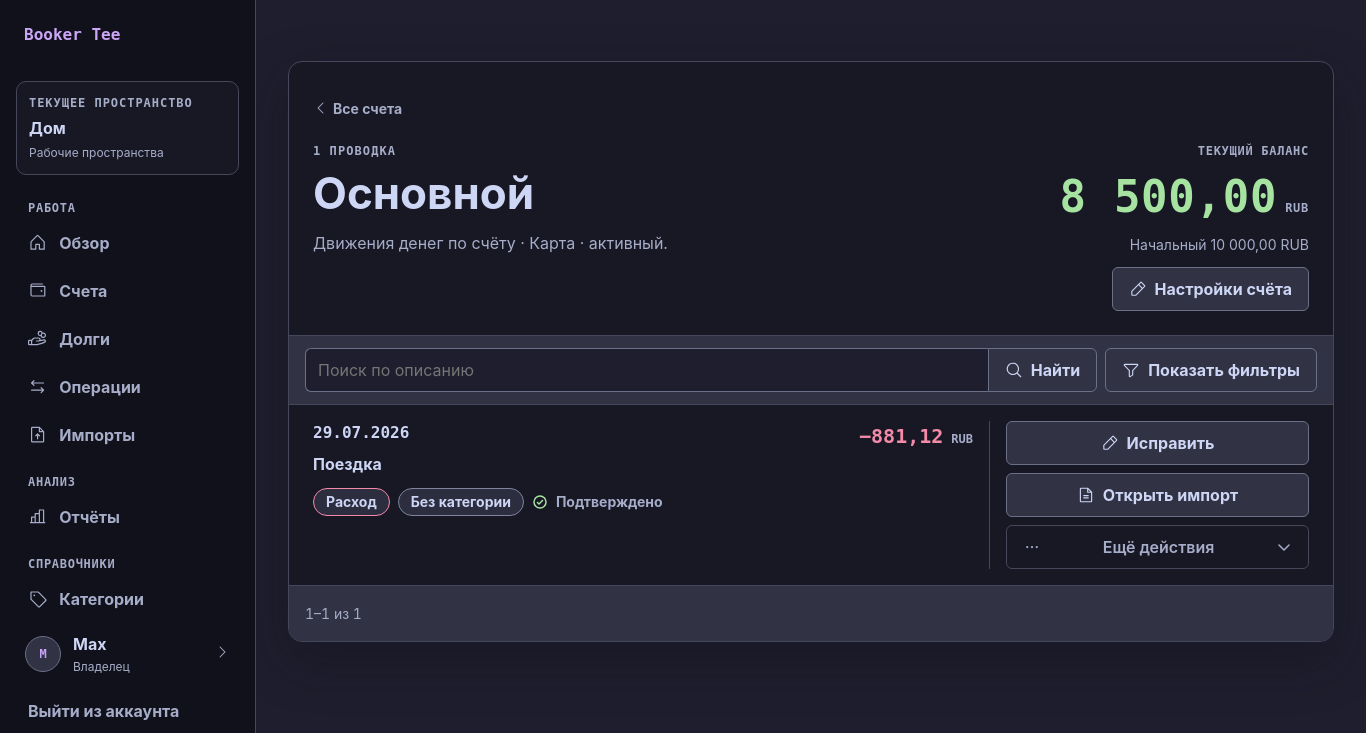
Test case: AccountDetailPage › keeps the correction draft when the operation changed elsewhere
Click the button "Исправить" at (1158, 443), box left=1006, top=421, right=1309, bottom=465
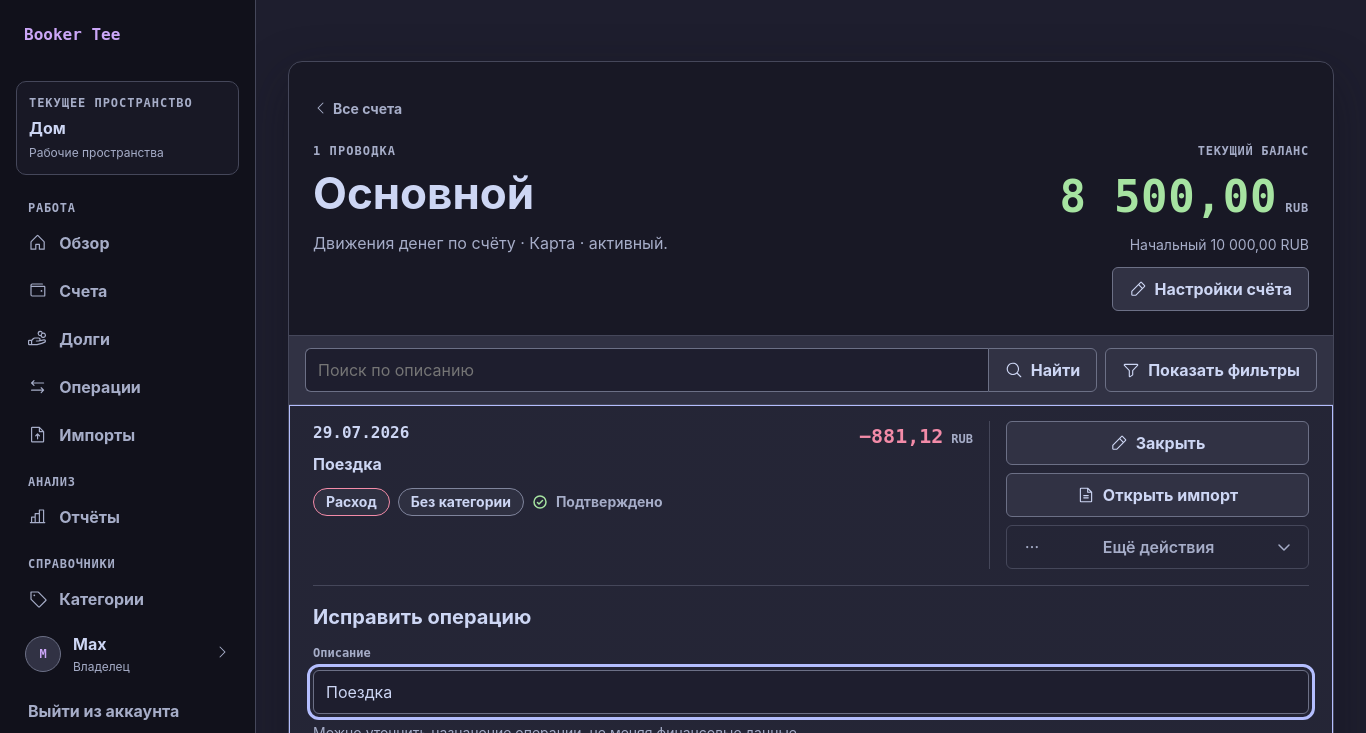
Replace the text in the field labelled "Описание" with "Мой черновик" at (811, 692), box left=313, top=670, right=1309, bottom=714
(page scrolled)
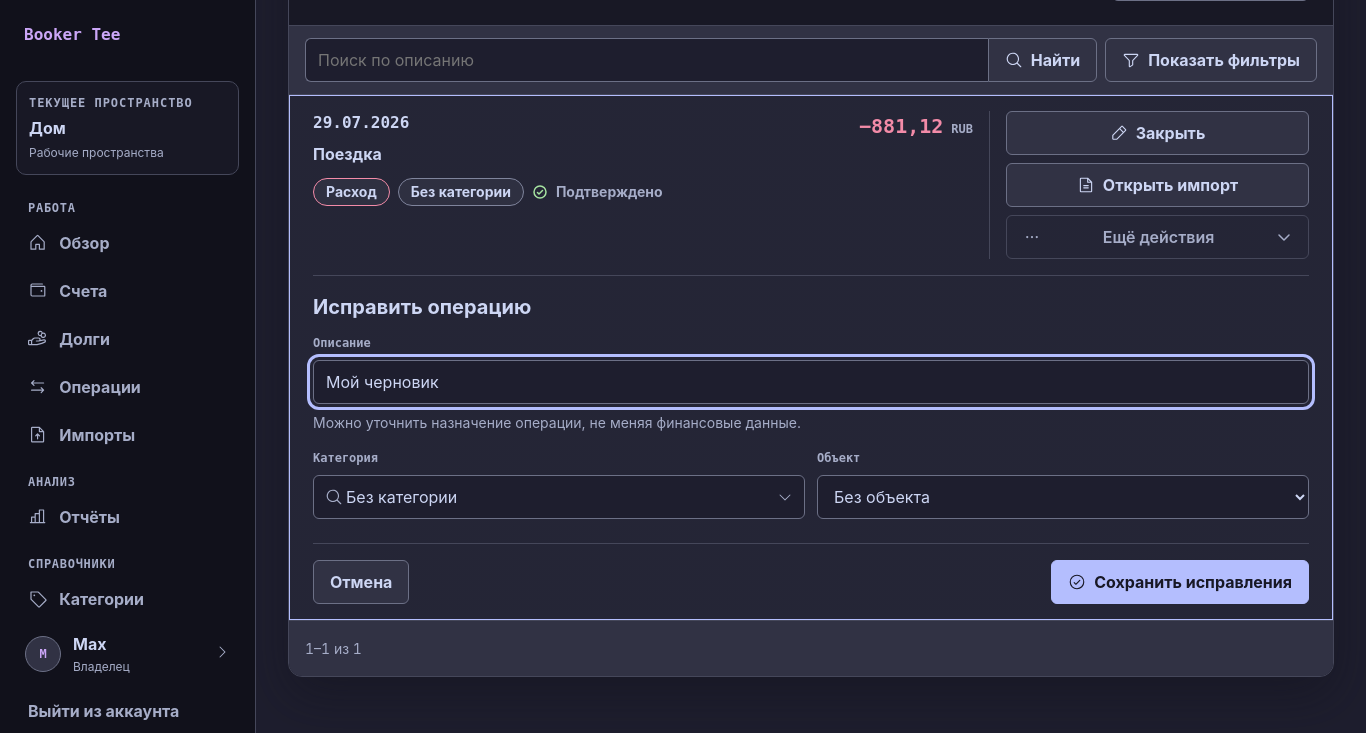
Click the button "Сохранить исправления" at (1180, 582), box left=1051, top=560, right=1309, bottom=604
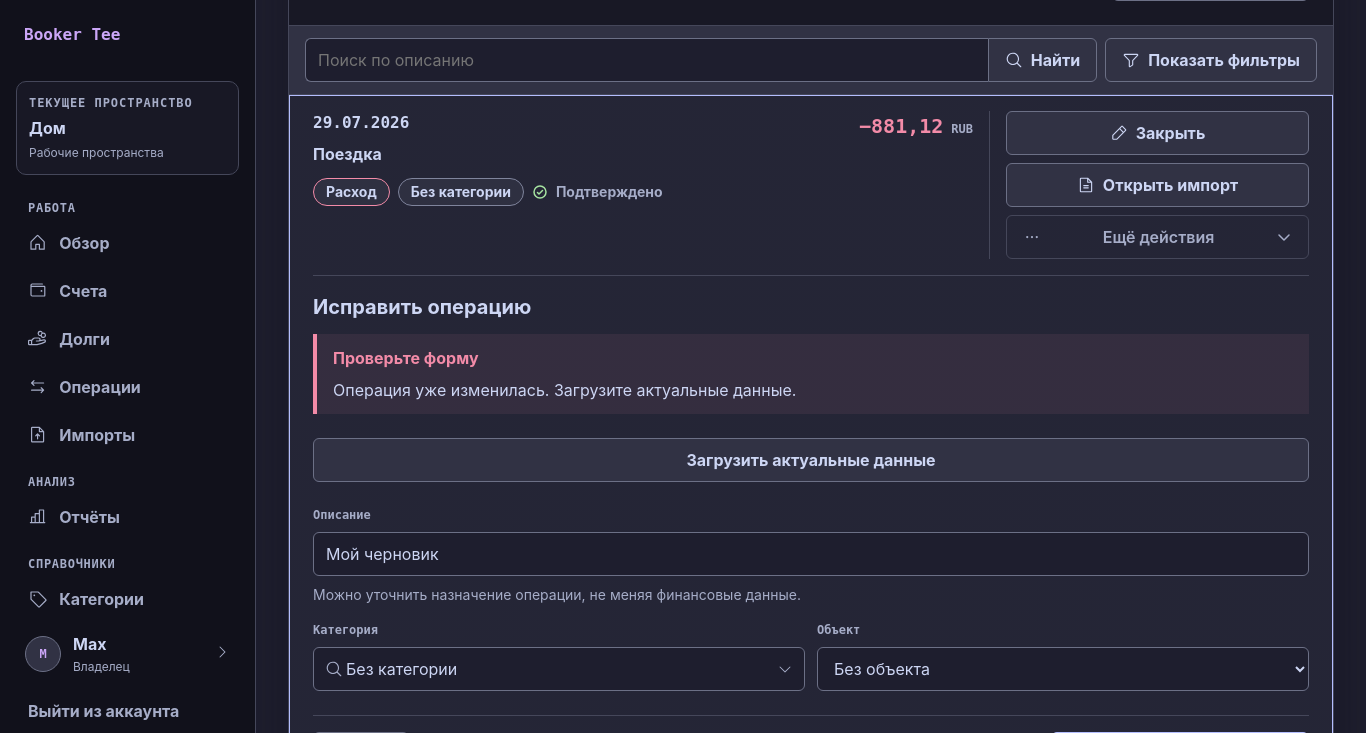
Now the text "Операция уже изменилась. Загрузите актуальные данные." is shown, box left=333, top=380, right=796, bottom=400
Now the button "Загрузить актуальные данные" is shown, box left=313, top=438, right=1309, bottom=482
